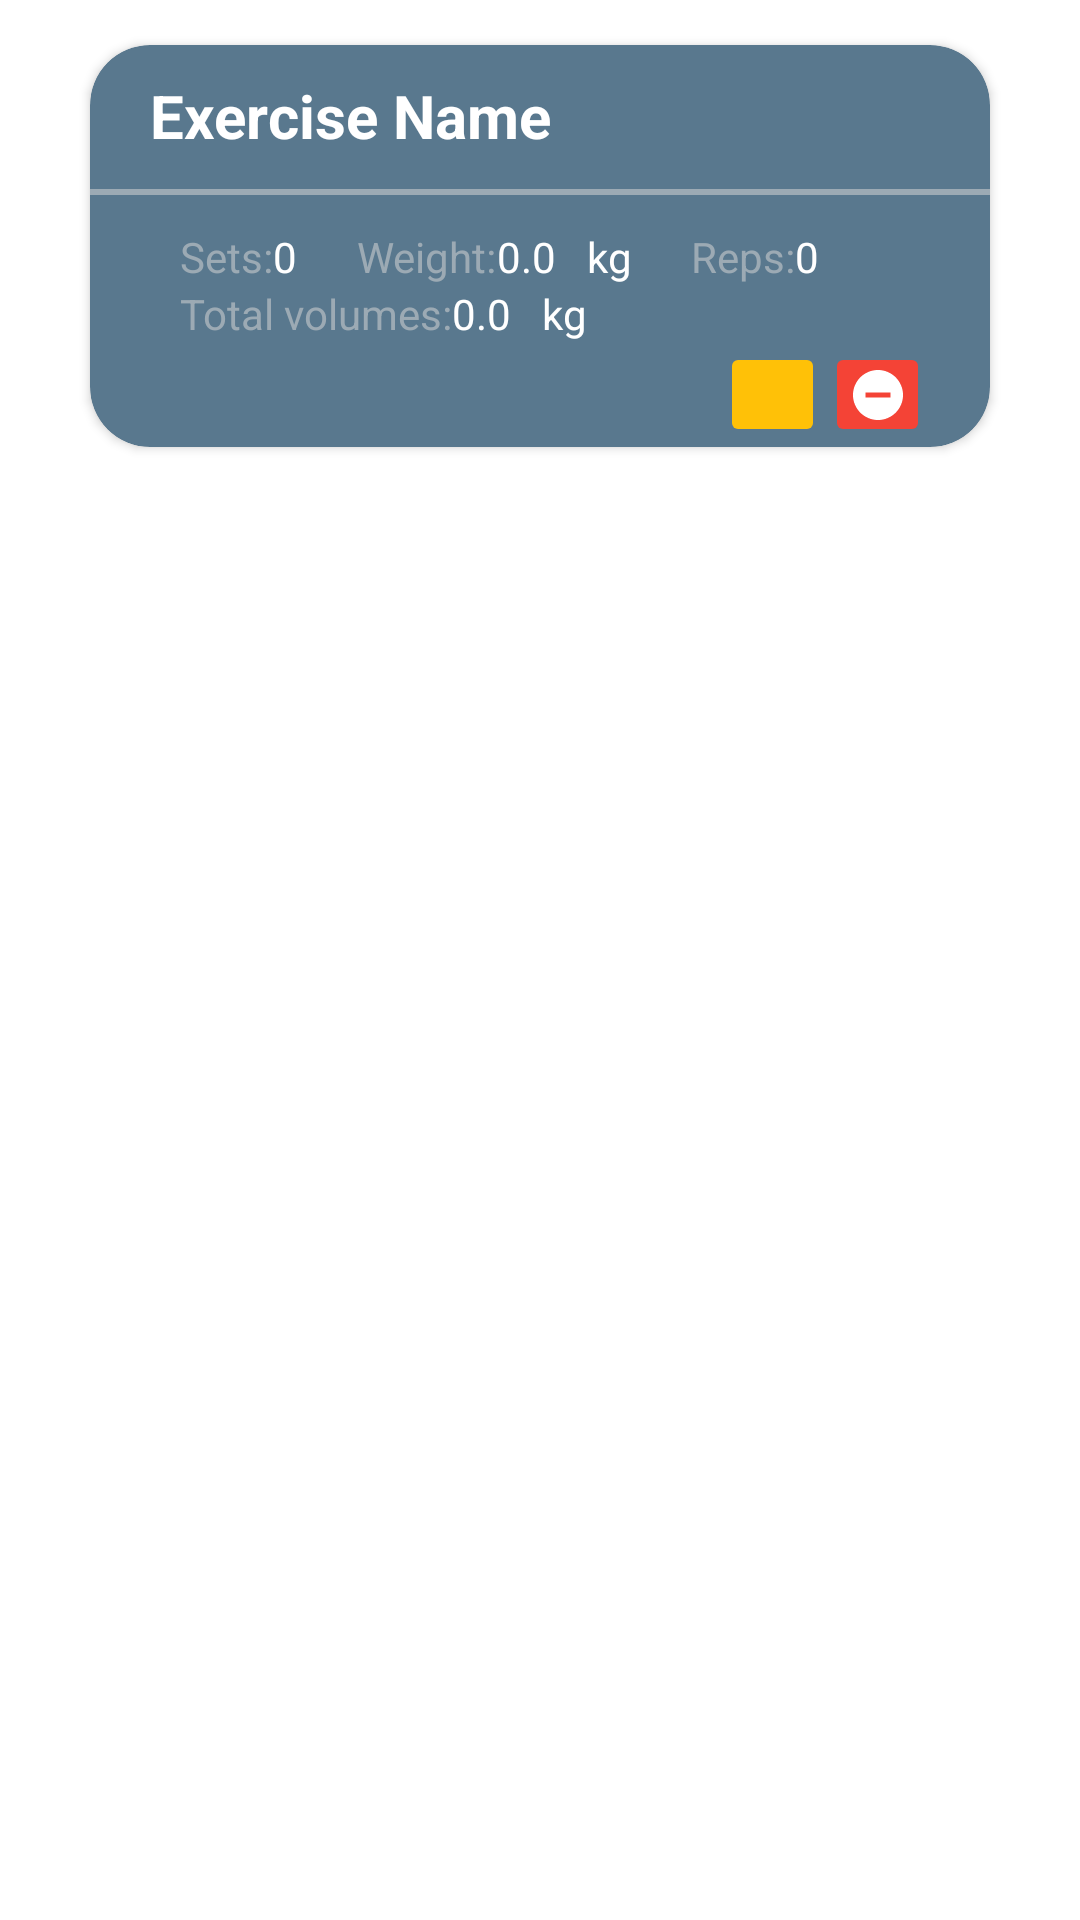

Named icons in this screenshot (1080px x 1920px) and their bounding boxes, (x1, y1, x2, y2):
do not disturb on: (837, 360, 918, 429)
